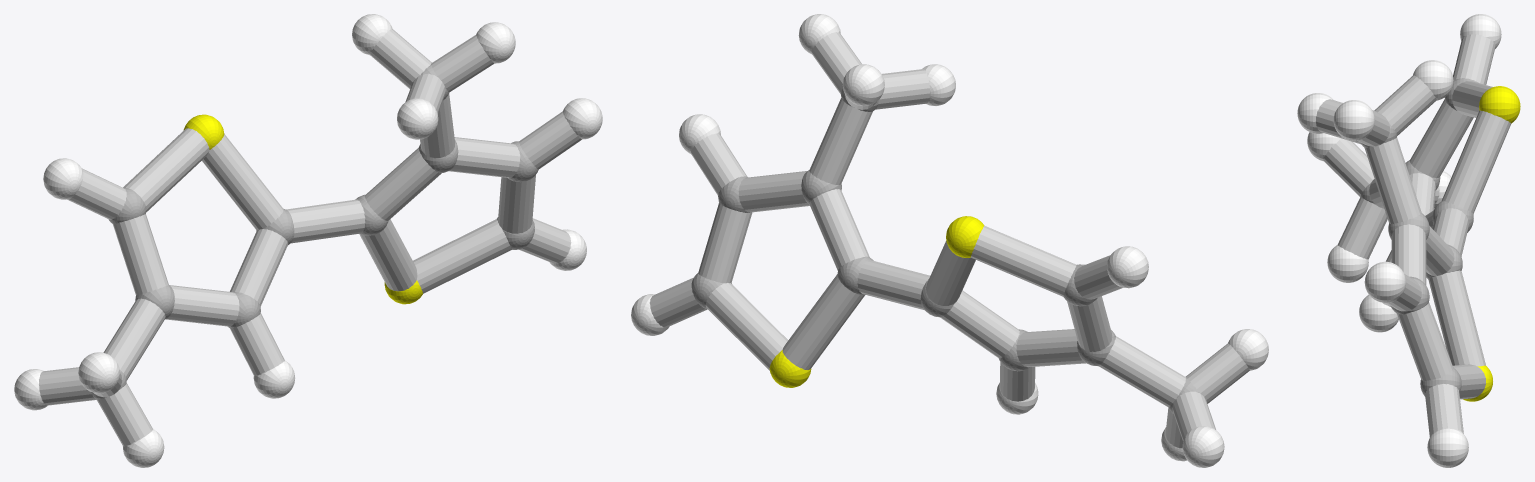
File: color.glb
The picture shows the model from 3 angles, left to right: view 1: azimuth 30°, elevation 25°; view 2: azimuth 150°, elevation 25°; view 3: azimuth 270°, elevation 25°; orthographic projection.
Parts seen in each view (by area): view 1: grp7965, grp3621, grp1, grp7241; view 2: grp7965, grp3621, grp1, grp7241; view 3: grp7965, grp3621, grp1, grp7241.
Part boxes in pixels (x1,y1,x2,y2): grp7965: [39, 29, 581, 446]; grp3621: [14, 14, 602, 467]; grp1: [91, 64, 538, 399]; grp7241: [183, 114, 422, 304]; grp7965: [649, 32, 1249, 448]; grp3621: [631, 14, 1268, 467]; grp1: [691, 88, 1199, 413]; grp7241: [769, 216, 984, 387]; grp7965: [1315, 34, 1510, 437]; grp3621: [1297, 14, 1501, 467]; grp1: [1360, 78, 1478, 396]; grp7241: [1463, 86, 1520, 401].
Size of the model in its own units: 9.55 by 5.62 by 3.23.
